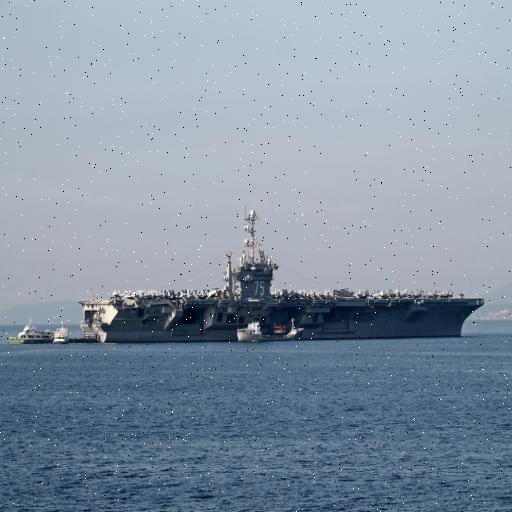Portanaves: (80, 210, 489, 348)
